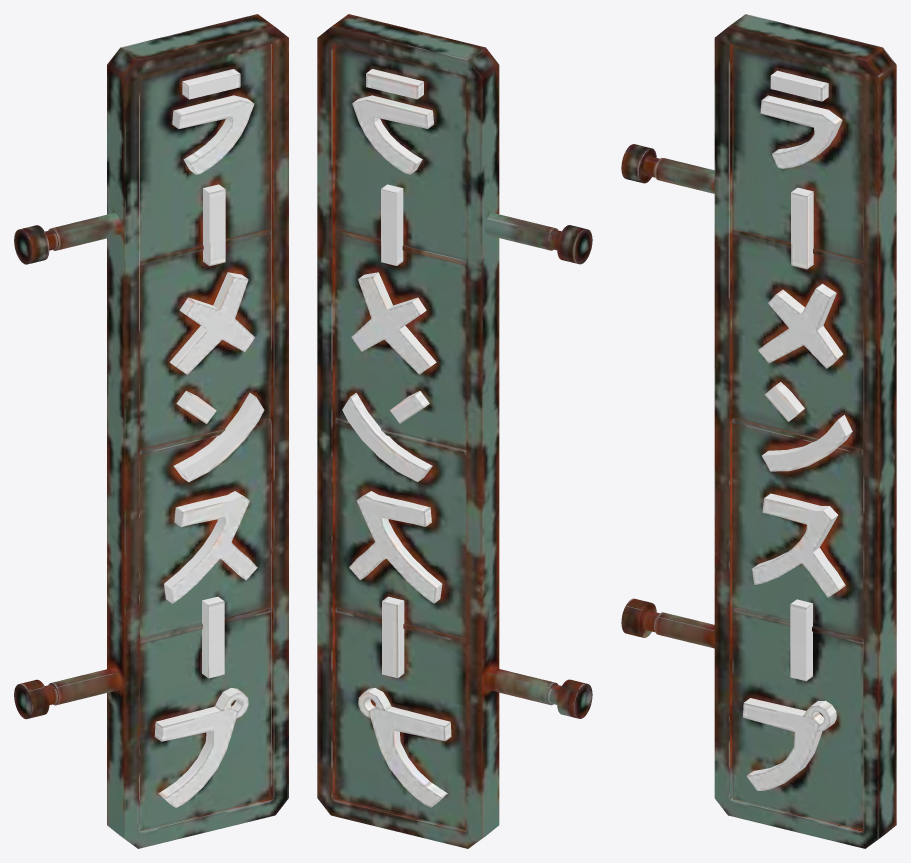
Rendered from neon_ramen_soup_sign.glb.
The picture shows the model from 3 angles, left to right: view 1: azimuth 30°, elevation 25°; view 2: azimuth 150°, elevation 25°; view 3: azimuth 330°, elevation 25°; orthographic projection.
Visible parts, largest first — view 1: Ramen_soup_neon_Ramen_soup_neon_0; view 2: Ramen_soup_neon_Ramen_soup_neon_0; view 3: Ramen_soup_neon_Ramen_soup_neon_0.
Boxes of the visible parts, x1,y1,x2,y2 form: Ramen_soup_neon_Ramen_soup_neon_0: [14, 14, 288, 848]; Ramen_soup_neon_Ramen_soup_neon_0: [317, 14, 592, 848]; Ramen_soup_neon_Ramen_soup_neon_0: [621, 14, 896, 848].
Size of the model in its own units: 0.6861 by 2.01 by 0.1199.
1 material, 1 textured.
